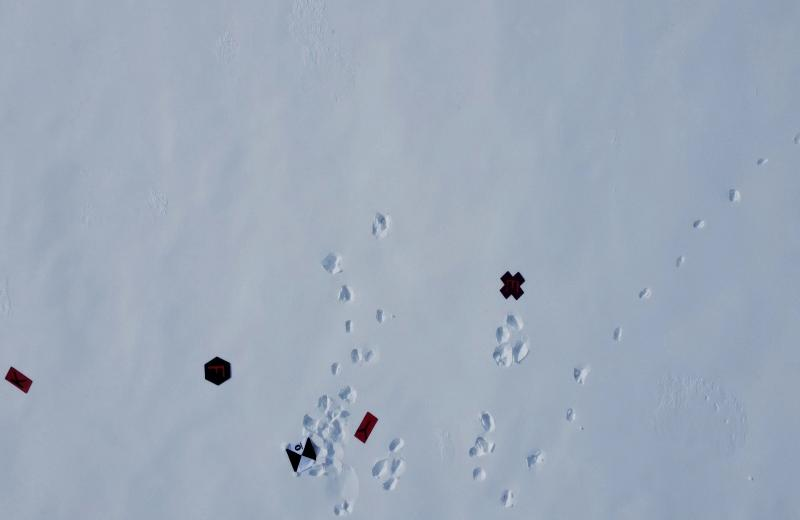Cross: (496, 268, 530, 308)
Hexagon: (200, 350, 234, 388)
Rectangle: (3, 361, 38, 395), (354, 404, 379, 444)
